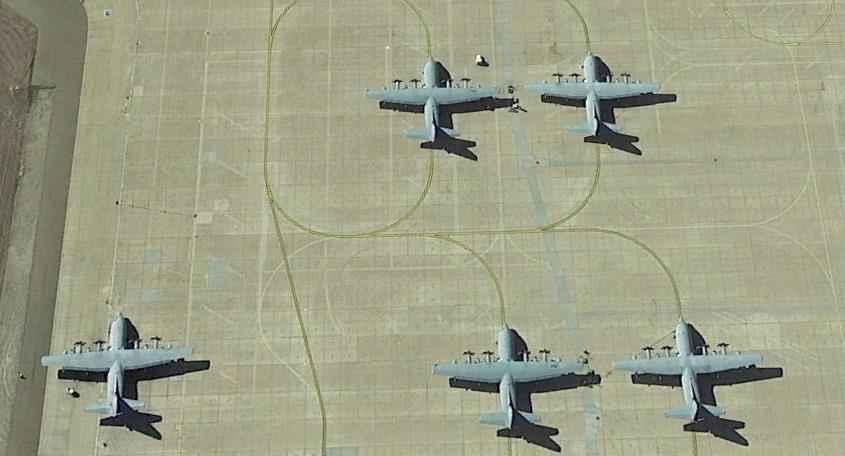C-130: (32, 310, 196, 424), (425, 327, 593, 436), (607, 320, 770, 429), (524, 53, 668, 143), (364, 55, 504, 146)
